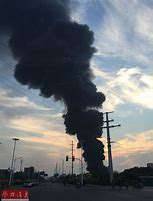smoke: (1, 1, 105, 170)
